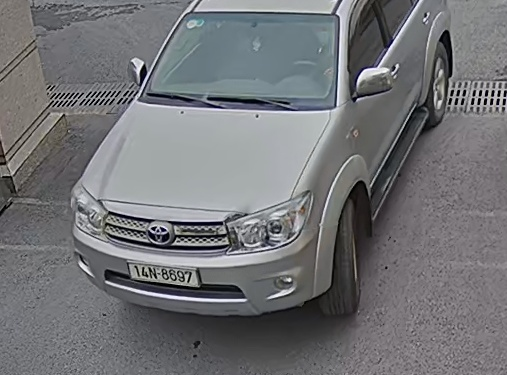vehicle plate: (125, 257, 200, 288)
